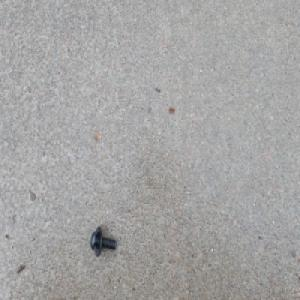BoltWasher: (90, 225, 117, 256)
